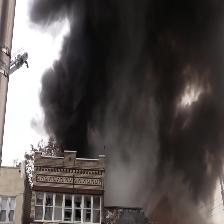smoke: (75, 1, 221, 153)
